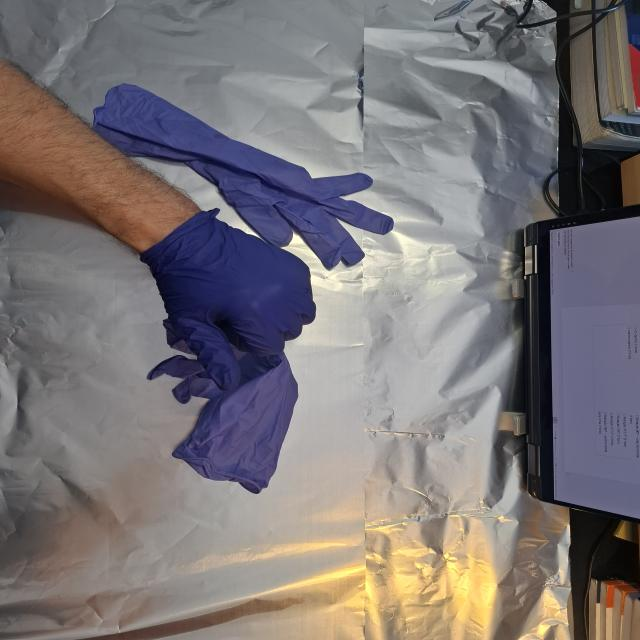glove_on: (138, 207, 321, 393)
